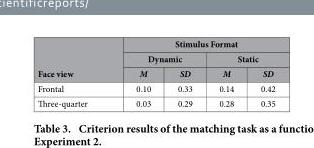table: (36, 37, 274, 109)
table column: (36, 37, 111, 109), (111, 37, 163, 109), (163, 37, 205, 109), (205, 37, 246, 109), (246, 37, 274, 109)
table column header: (36, 37, 274, 80)
table row: (36, 50, 274, 65), (36, 65, 274, 80), (36, 80, 274, 95), (36, 95, 274, 109), (36, 37, 274, 50)
table spanning cell: (36, 37, 111, 80), (111, 37, 274, 50), (111, 50, 205, 65), (205, 50, 274, 65)
